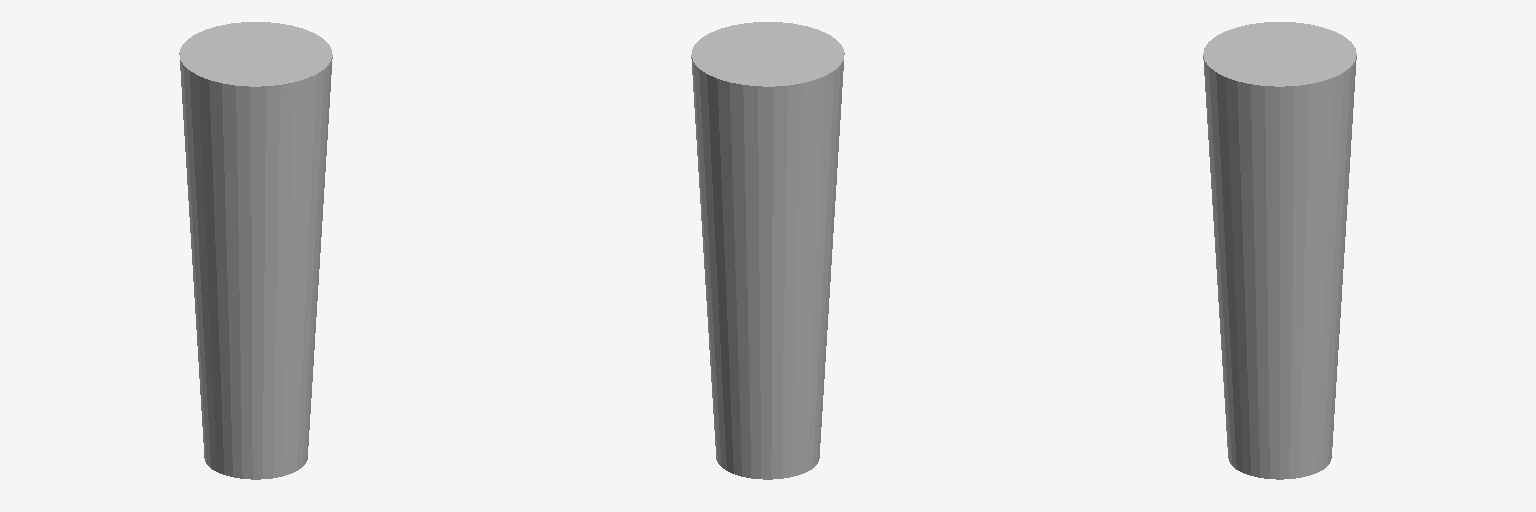
Rendered from silinderkiri.obj.
3 views of the same model, side by side, from view 1: azimuth 30°, elevation 25°; view 2: azimuth 150°, elevation 25°; view 3: azimuth 270°, elevation 25° (orthographic).
Parts seen in each view (by area): view 1: Cylinder; view 2: Cylinder; view 3: Cylinder.
Part boxes in pixels (x1,y1,x2,y2): Cylinder: (179,22,332,479); Cylinder: (691,22,844,479); Cylinder: (1203,22,1356,479).
Size of the model in its own units: 6.61 by 19.14 by 6.61.